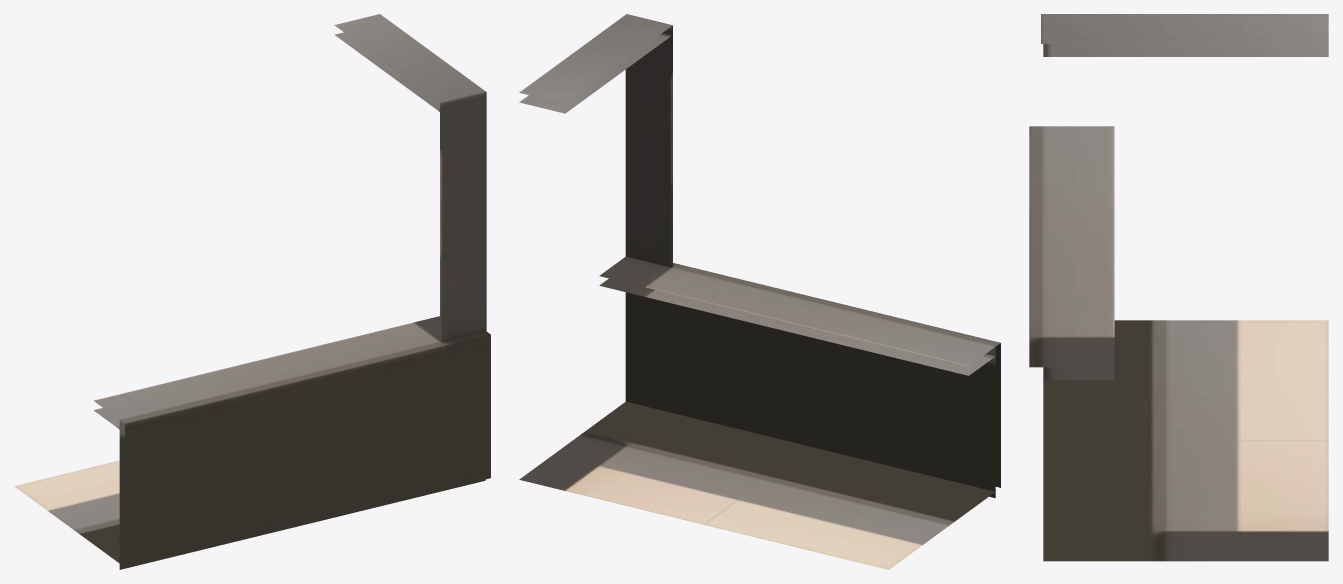
The model's file is front-right.glb.
3 views of the same model, side by side, from view 1: azimuth 30°, elevation 25°; view 2: azimuth 150°, elevation 25°; view 3: azimuth 270°, elevation 25° (orthographic). The views are drawn at different scales.
Visible parts, largest first — view 1: frontRight; view 2: frontRight; view 3: frontRight.
Part boxes in pixels (left/top/right/bottom): frontRight: left=14, top=14, right=490, bottom=569; frontRight: left=519, top=14, right=1000, bottom=569; frontRight: left=1029, top=14, right=1328, bottom=561.
Bounding box in the file's own units: 1.2 × 1.22 × 0.63.
1 material, 1 textured.
